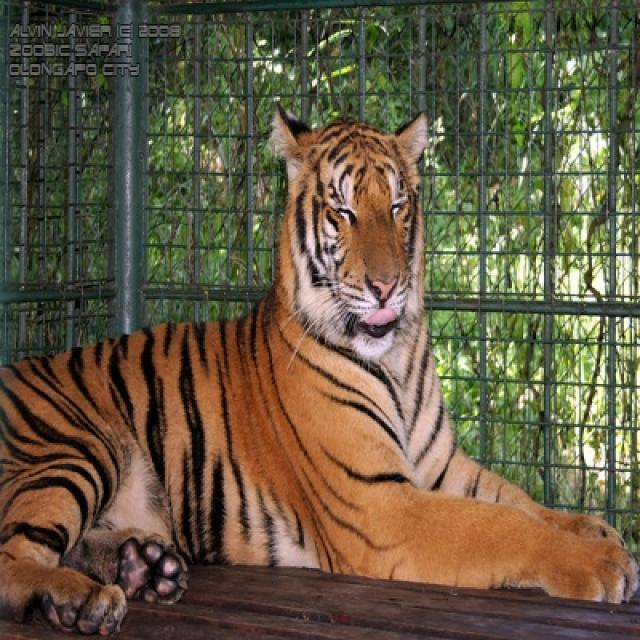Tiger: (0, 107, 638, 628)
